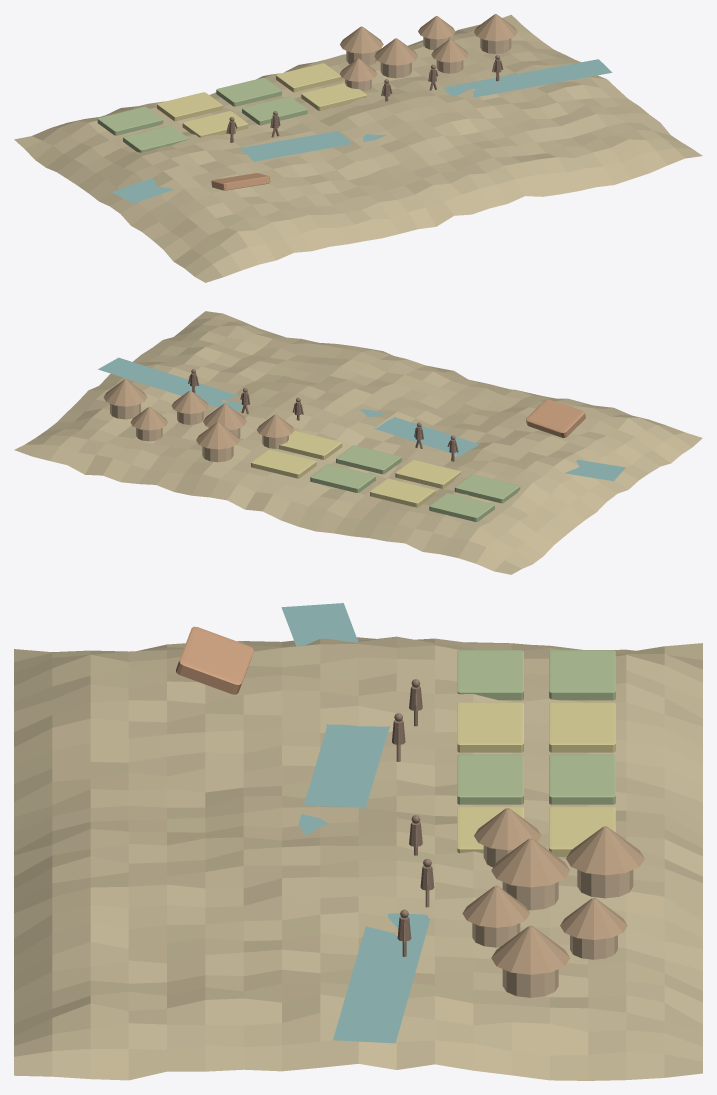
File: world-06-settlement.glb
3 views of the same model, one above another, from view 1: azimuth 30°, elevation 25°; view 2: azimuth 150°, elevation 25°; view 3: azimuth 270°, elevation 25° (orthographic). The views are drawn at different scales.
Visible parts, largest first — view 1: BH_WORLD_06_Terrain.003, BH_WORLD_06_River.003, BH_WORLD_06_Batch_02, BH_WORLD_06_Batch_03, BH_WORLD_06_Batch_05, BH_WORLD_06_Batch_04, BH_WORLD_06_Batch_06, Clay_Tablet.003; view 2: BH_WORLD_06_Terrain.003, BH_WORLD_06_Batch_02, BH_WORLD_06_Batch_03, BH_WORLD_06_River.003, BH_WORLD_06_Batch_05, BH_WORLD_06_Batch_04, Clay_Tablet.003, BH_WORLD_06_Batch_06; view 3: BH_WORLD_06_Terrain.003, BH_WORLD_06_River.003, BH_WORLD_06_Batch_02, BH_WORLD_06_Batch_05, BH_WORLD_06_Batch_03, BH_WORLD_06_Batch_04, Clay_Tablet.003, BH_WORLD_06_Batch_06.
Part boxes in pixels (x1,y1,x2,y2): BH_WORLD_06_Terrain.003: (14, 14, 702, 282); BH_WORLD_06_River.003: (112, 59, 612, 203); BH_WORLD_06_Batch_02: (97, 77, 307, 152); BH_WORLD_06_Batch_03: (157, 63, 366, 137); BH_WORLD_06_Batch_05: (340, 14, 517, 81); BH_WORLD_06_Batch_04: (345, 37, 511, 91); BH_WORLD_06_Batch_06: (226, 55, 503, 142); Clay_Tablet.003: (211, 173, 270, 190); BH_WORLD_06_Terrain.003: (14, 311, 702, 574); BH_WORLD_06_Batch_02: (310, 445, 520, 521); BH_WORLD_06_Batch_03: (251, 431, 460, 507); BH_WORLD_06_River.003: (98, 357, 625, 481); BH_WORLD_06_Batch_05: (103, 379, 293, 449); BH_WORLD_06_Batch_04: (110, 403, 288, 462); Clay_Tablet.003: (526, 399, 585, 437); BH_WORLD_06_Batch_06: (188, 369, 458, 461); BH_WORLD_06_Terrain.003: (14, 636, 702, 1080); BH_WORLD_06_River.003: (281, 603, 429, 1043); BH_WORLD_06_Batch_02: (457, 650, 615, 804); BH_WORLD_06_Batch_05: (462, 808, 644, 974); BH_WORLD_06_Batch_03: (457, 702, 615, 856); BH_WORLD_06_Batch_04: (472, 845, 633, 997); Clay_Tablet.003: (176, 626, 253, 694); BH_WORLD_06_Batch_06: (392, 679, 434, 956).
Bounding box in the file's own units: 18.15 × 2.06 × 12.
